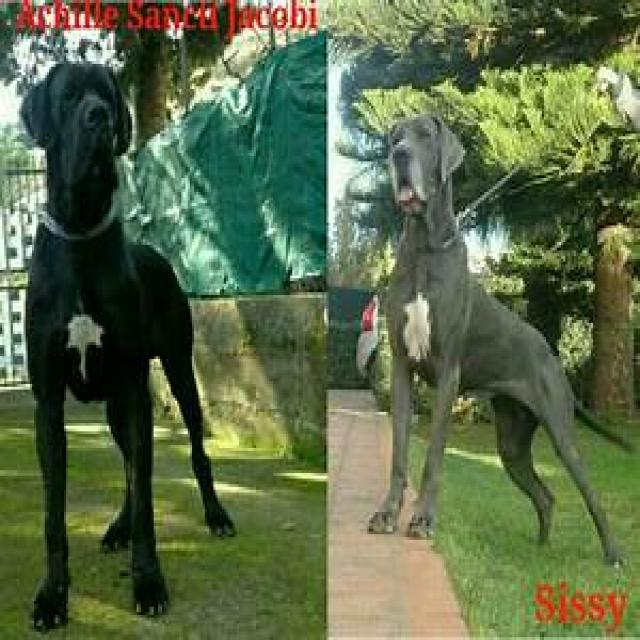dog: (19, 64, 237, 632), (369, 114, 619, 568)
